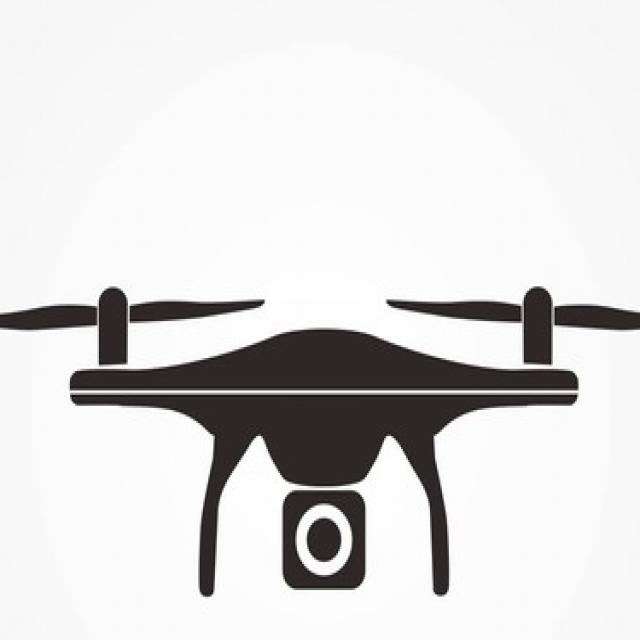drone: (0, 232, 640, 588)
